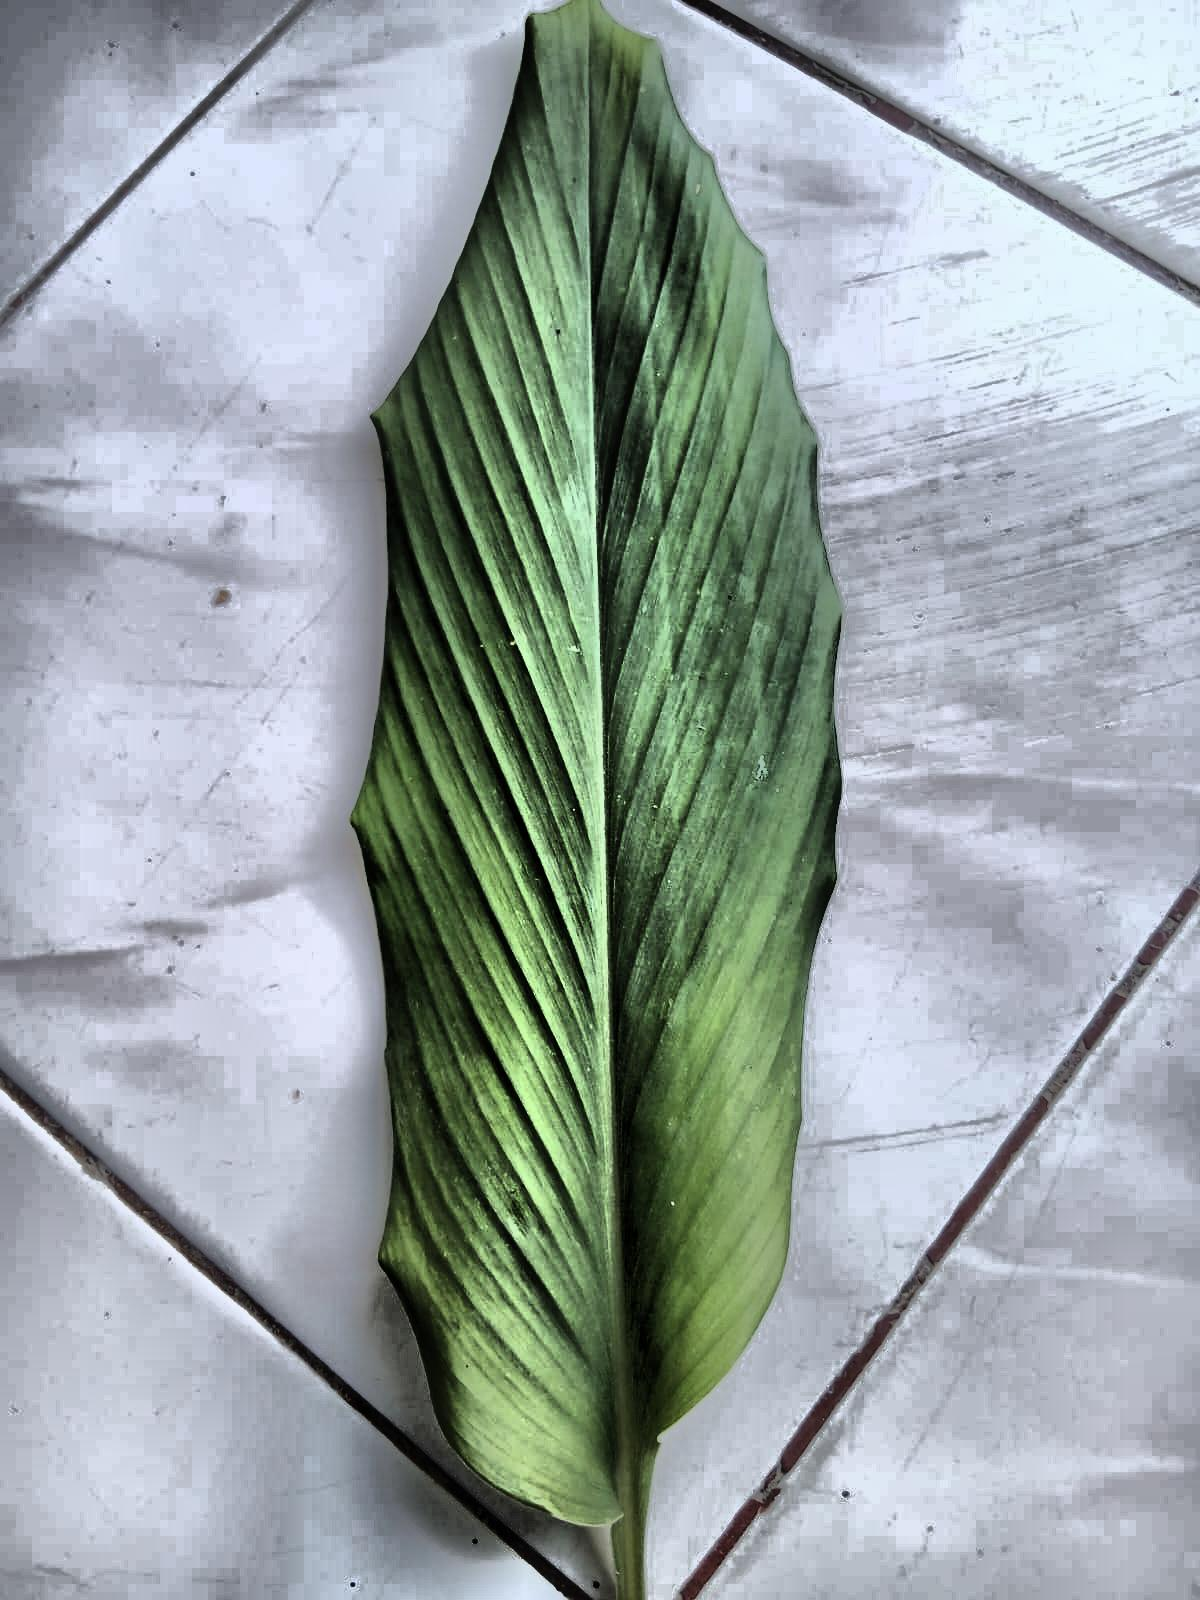daun kunyit: (352, 0, 841, 1599)
